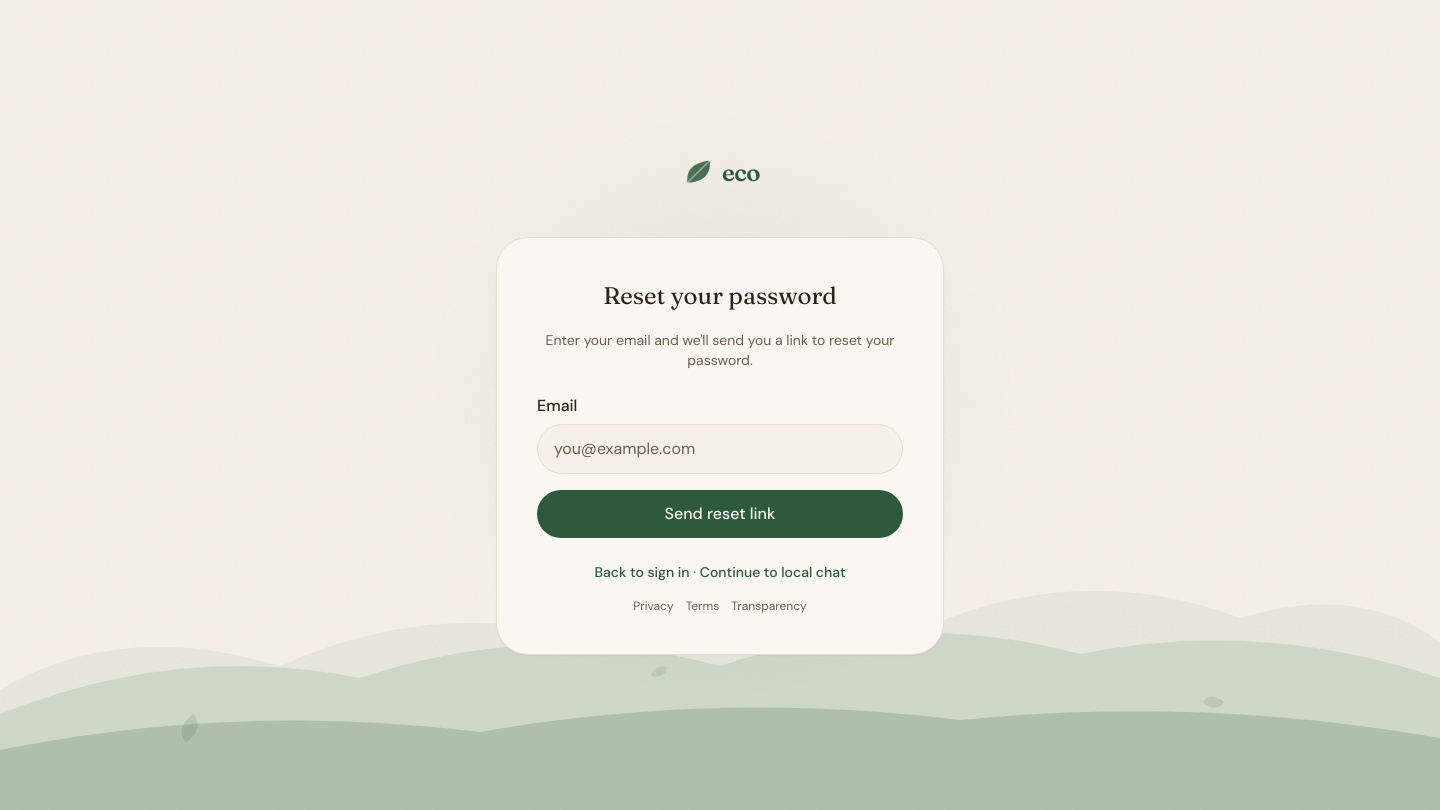
ForgotPasswordPage › shows recoverable error feedback without losing the typed email
Type "friend@eco.local" into the field labelled "Email".
click(720, 448); type("friend@eco.local")  # box [537,424,903,474]
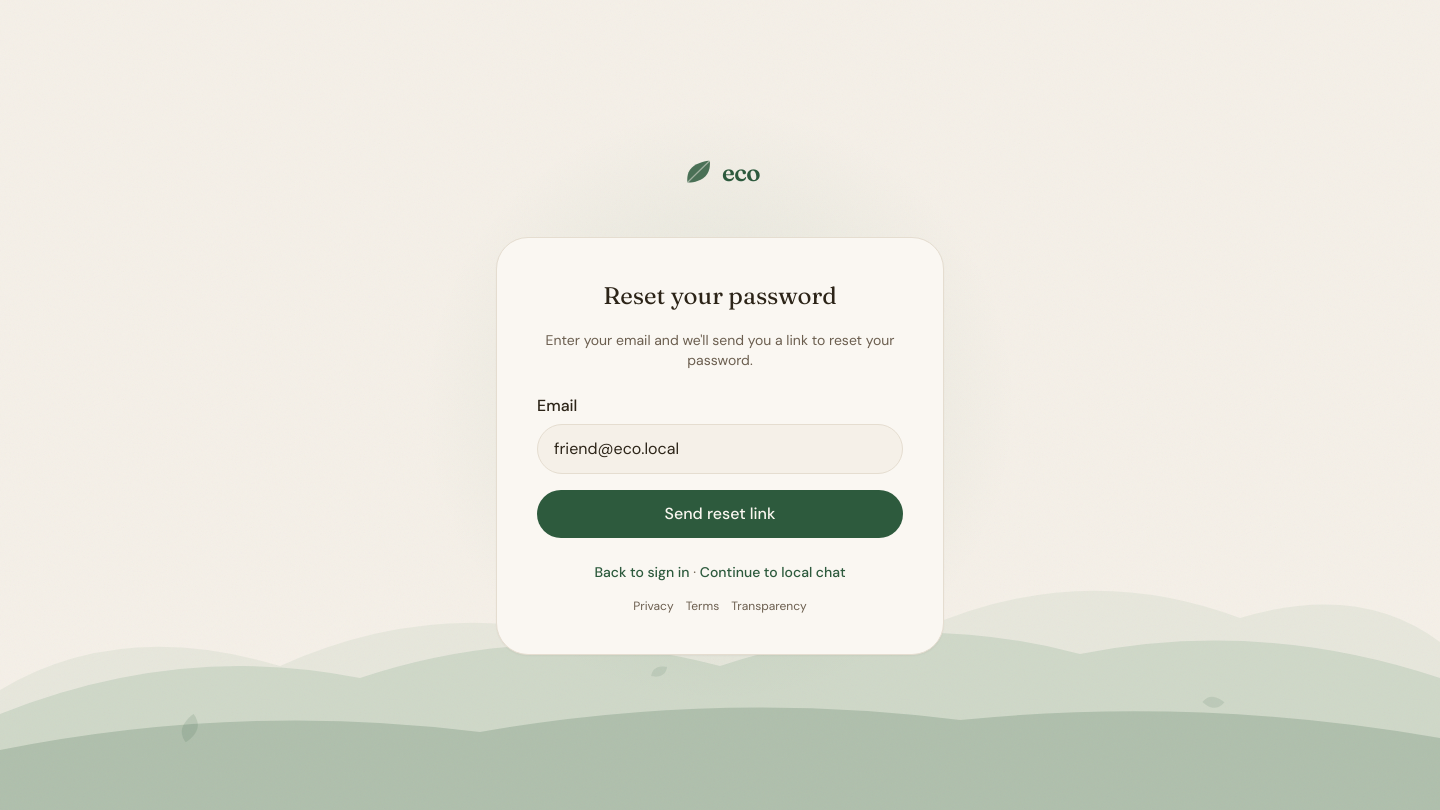
Click the button "Send reset link".
click(720, 514)  # box [537,490,903,538]
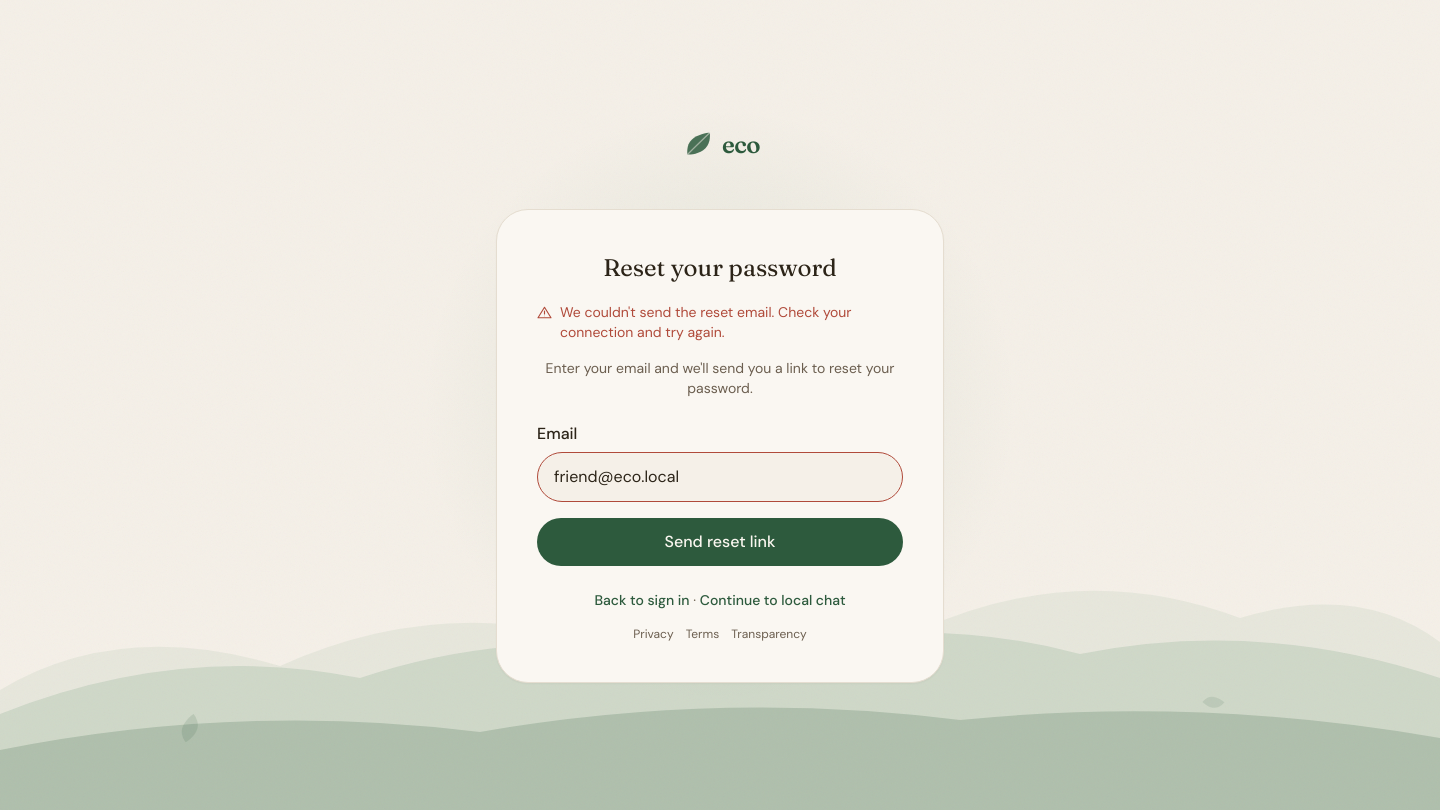
Expected: the button "Send reset link" is enabled, [537,518,903,566]
Expected: the message reads "We couldn't send the reset email. Check your connection and try again.", [560,302,852,340]
